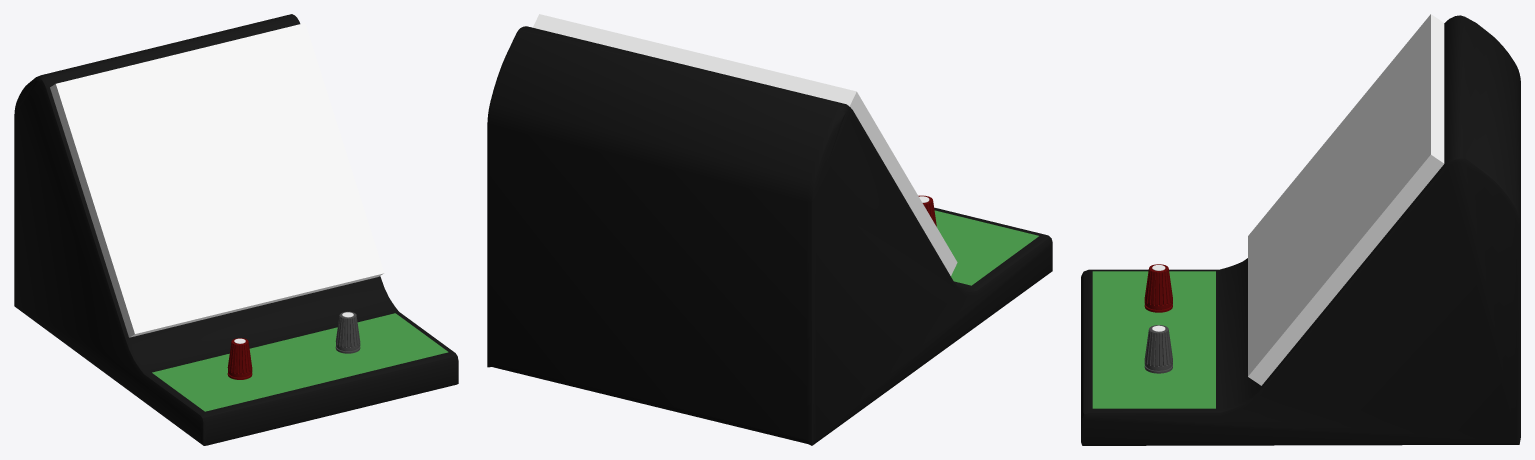
Rendered from Galvanometer.fbx.
3 renders of one model, left to right at view 1: azimuth 30°, elevation 25°; view 2: azimuth 150°, elevation 25°; view 3: azimuth 270°, elevation 25°, orthographic. The views are drawn at different scales.
Parts seen in each view (by area): view 1: polySurface4, polySurface8, Galvano; view 2: polySurface8, polySurface4; view 3: polySurface8, polySurface4, Galvano.
Boxes of the visible parts, bbox=[...] form: polySurface4: bbox=[50, 23, 384, 337]; polySurface8: bbox=[14, 14, 458, 445]; Galvano: bbox=[227, 311, 360, 379]; polySurface8: bbox=[487, 26, 1052, 445]; polySurface4: bbox=[533, 14, 957, 275]; polySurface8: bbox=[1081, 15, 1520, 445]; polySurface4: bbox=[1248, 14, 1444, 385]; Galvano: bbox=[1144, 264, 1172, 373].
Size of the model in its own units: 10.2 by 9.48 by 12.98.
